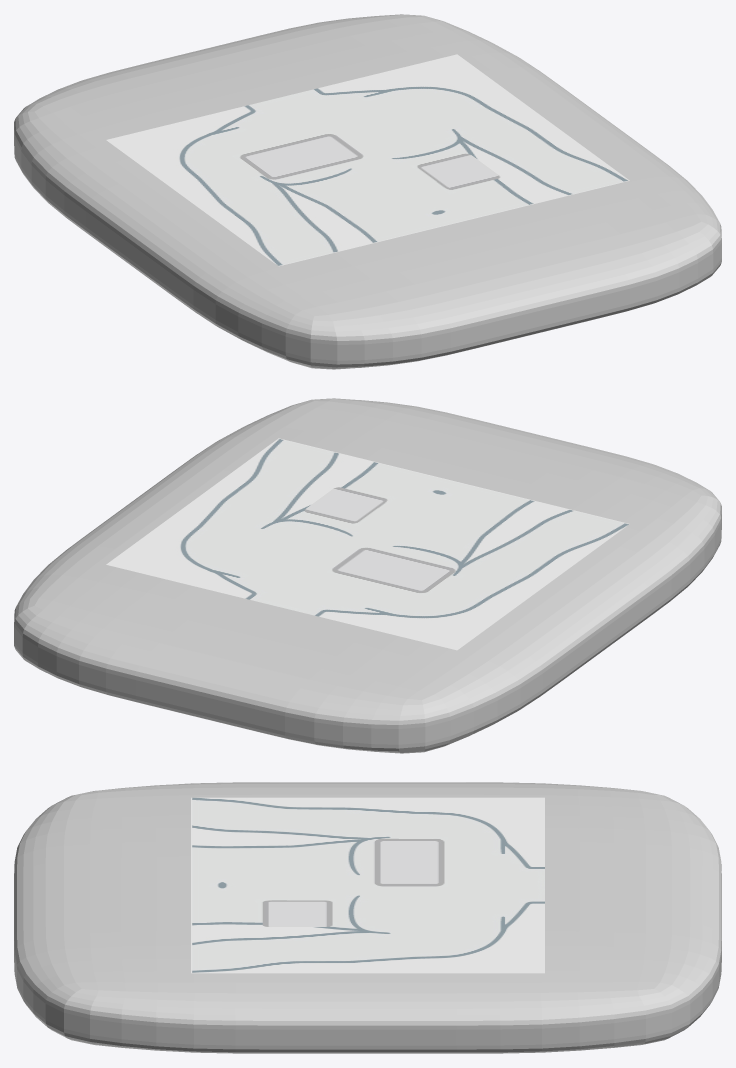
Rendered from ShockPadWhite.fbx.
The picture shows the model from 3 angles, top to bottom: view 1: azimuth 30°, elevation 25°; view 2: azimuth 150°, elevation 25°; view 3: azimuth 270°, elevation 25°; orthographic projection. The views are drawn at different scales.
Visible parts, largest first — view 1: Cube, PadPlacementWhite; view 2: Cube, PadPlacementWhite; view 3: Cube, PadPlacementWhite.
Part boxes in pixels (left/top/right/bottom): Cube: left=14, top=14, right=721, bottom=369; PadPlacementWhite: left=106, top=54, right=629, bottom=266; Cube: left=14, top=398, right=721, bottom=753; PadPlacementWhite: left=106, top=438, right=629, bottom=650; Cube: left=14, top=782, right=721, bottom=1053; PadPlacementWhite: left=191, top=797, right=544, bottom=973.
Bounding box in the file's own units: 160 × 20.1 × 200.
Materials: 2 (1 with a texture image).
